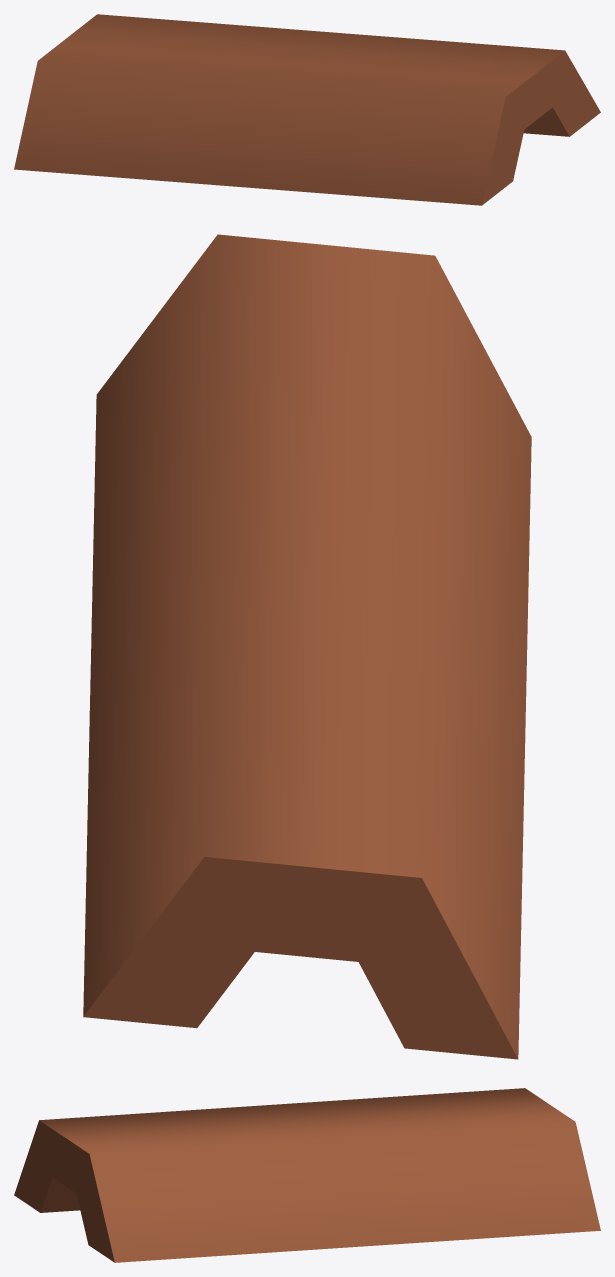
The model's file is cozy_lake_cylinder001.glb.
3 views of the same model, one above another, from view 1: azimuth 30°, elevation 25°; view 2: azimuth 150°, elevation 25°; view 3: azimuth 270°, elevation 25° (orthographic). The views are drawn at different scales.
Visible parts, largest first — view 1: Cylinder001; view 2: Cylinder001; view 3: Cylinder001.
Boxes of the visible parts, box(x1,y1,x2,y2) form: Cylinder001: box(14, 14, 600, 205); Cylinder001: box(83, 234, 531, 1059); Cylinder001: box(14, 1088, 600, 1262).
Bounding box in the file's own units: 20.24 × 8.74 × 25.18.
